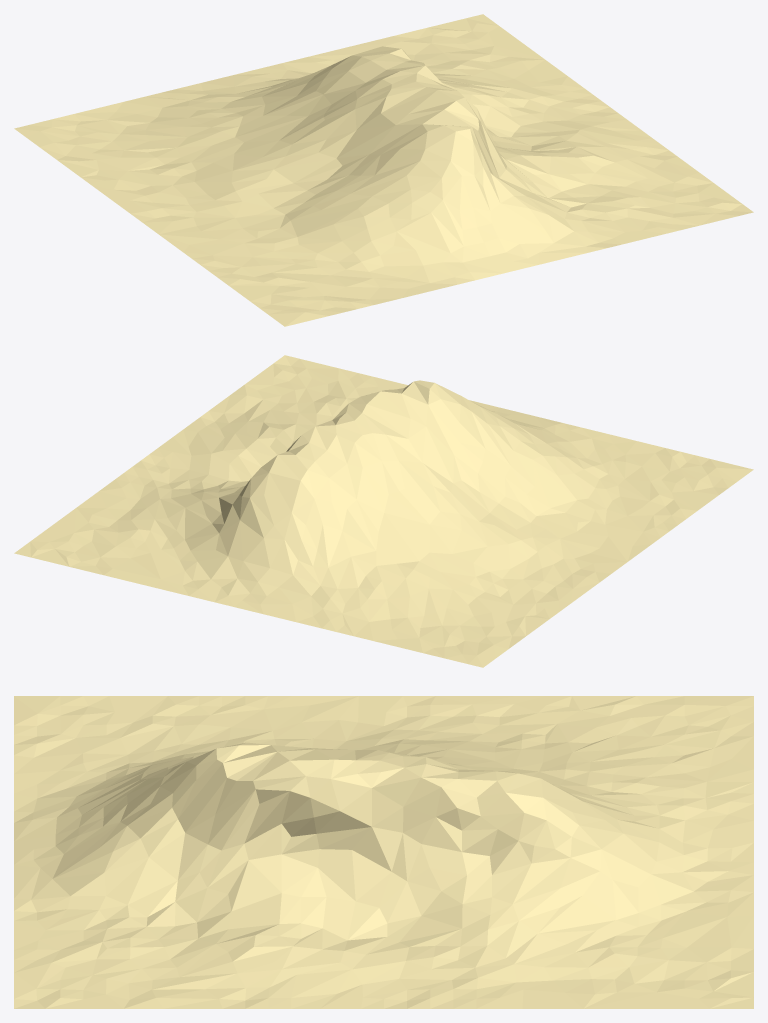
File: Terrain_m_08.fbx
3 renders of one model, top to bottom at view 1: azimuth 30°, elevation 25°; view 2: azimuth 150°, elevation 25°; view 3: azimuth 270°, elevation 25°, orthographic. The views are drawn at different scales.
Visible parts, largest first — view 1: Terrain_m_08; view 2: Terrain_m_08; view 3: Terrain_m_08.
Part boxes in pixels (x1,y1,x2,y2): Terrain_m_08: (14,14,753,326); Terrain_m_08: (14,355,753,667); Terrain_m_08: (14,696,753,1008).
Size of the model in its own units: 10000 by 1772 by 10000.
